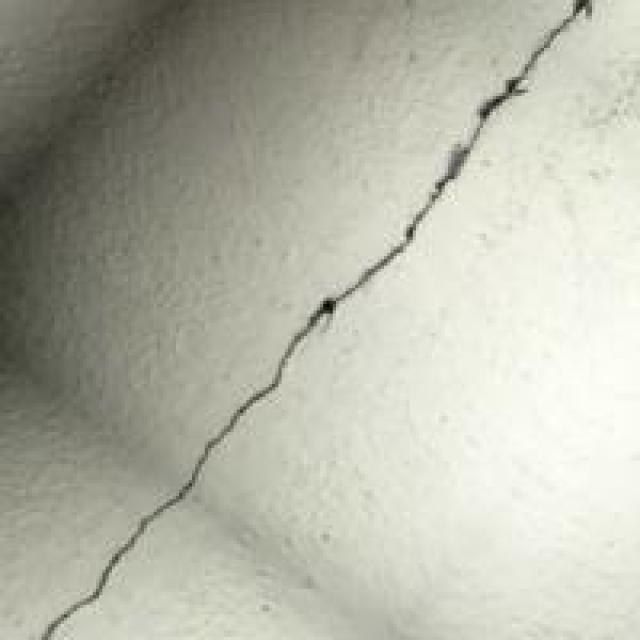crack: (26, 0, 595, 637)
